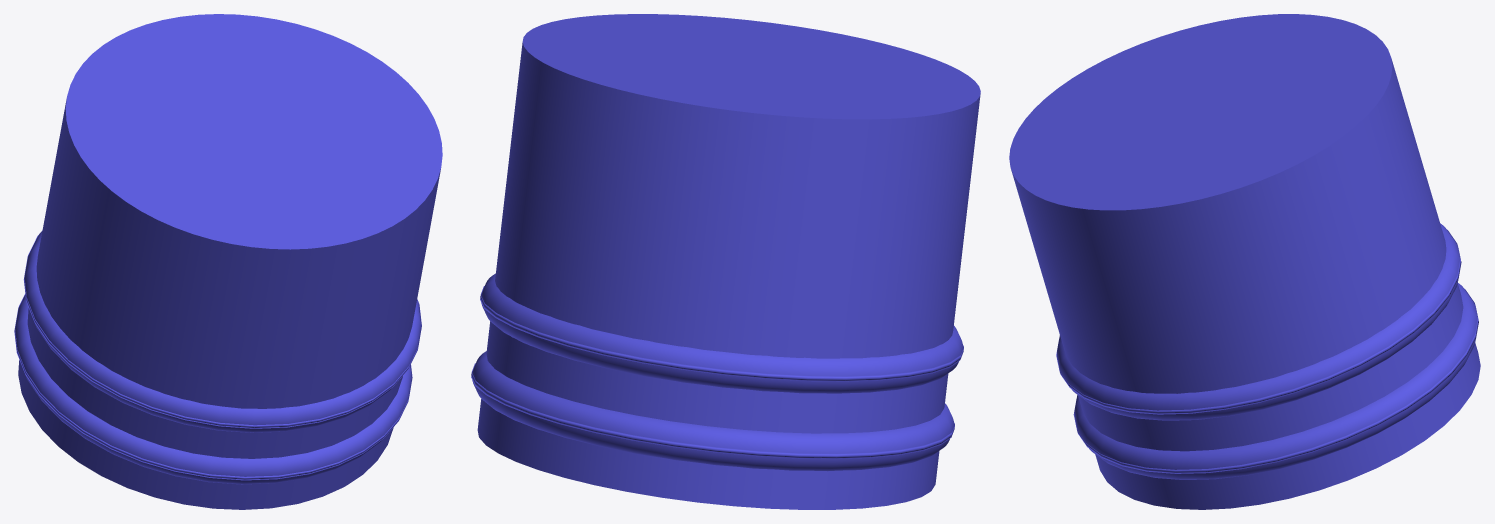
The model's file is bombilla216.obj.
The picture shows the model from 3 angles, left to right: view 1: azimuth 30°, elevation 25°; view 2: azimuth 150°, elevation 25°; view 3: azimuth 270°, elevation 25°; orthographic projection. The views are drawn at different scales.
Parts seen in each view (by area): view 1: Cylinder001, Cylinder004, Cylinder002, Cylinder003, Cylinder006; view 2: Cylinder001, Cylinder003, Cylinder004, Cylinder006, Cylinder002; view 3: Cylinder001, Cylinder004, Cylinder003, Cylinder002, Cylinder006.
Part boxes in pixels (x1=…): Cylinder001: x1=36, y1=14, x2=442, y2=408; Cylinder004: x1=14, y1=294, x2=412, y2=484; Cylinder002: x1=23, y1=230, x2=421, y2=432; Cylinder003: x1=27, y1=308, x2=402, y2=458; Cylinder006: x1=18, y1=360, x2=393, y2=509; Cylinder001: x1=495, y1=14, x2=980, y2=358; Cylinder003: x1=486, y1=321, x2=948, y2=433; Cylinder004: x1=471, y1=351, x2=954, y2=471; Cylinder006: x1=477, y1=399, x2=939, y2=509; Cylinder002: x1=480, y1=273, x2=963, y2=393; Cylinder001: x1=1009, y1=14, x2=1446, y2=393; Cylinder004: x1=1073, y1=283, x2=1478, y2=479; Cylinder003: x1=1078, y1=283, x2=1463, y2=451; Cylinder002: x1=1056, y1=223, x2=1461, y2=420; Cylinder006: x1=1095, y1=343, x2=1480, y2=509.
Size of the model in its own units: 72.45 by 75.12 by 81.44.
